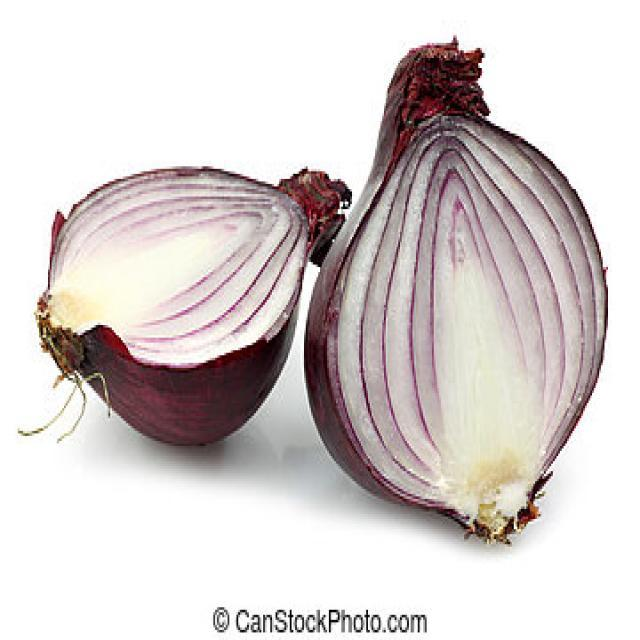onion: (302, 40, 611, 547), (36, 156, 311, 450)
